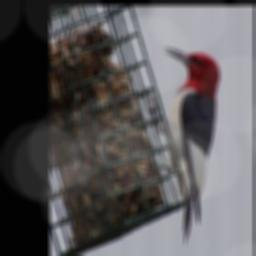Woodpecker: (148, 46, 222, 245)
